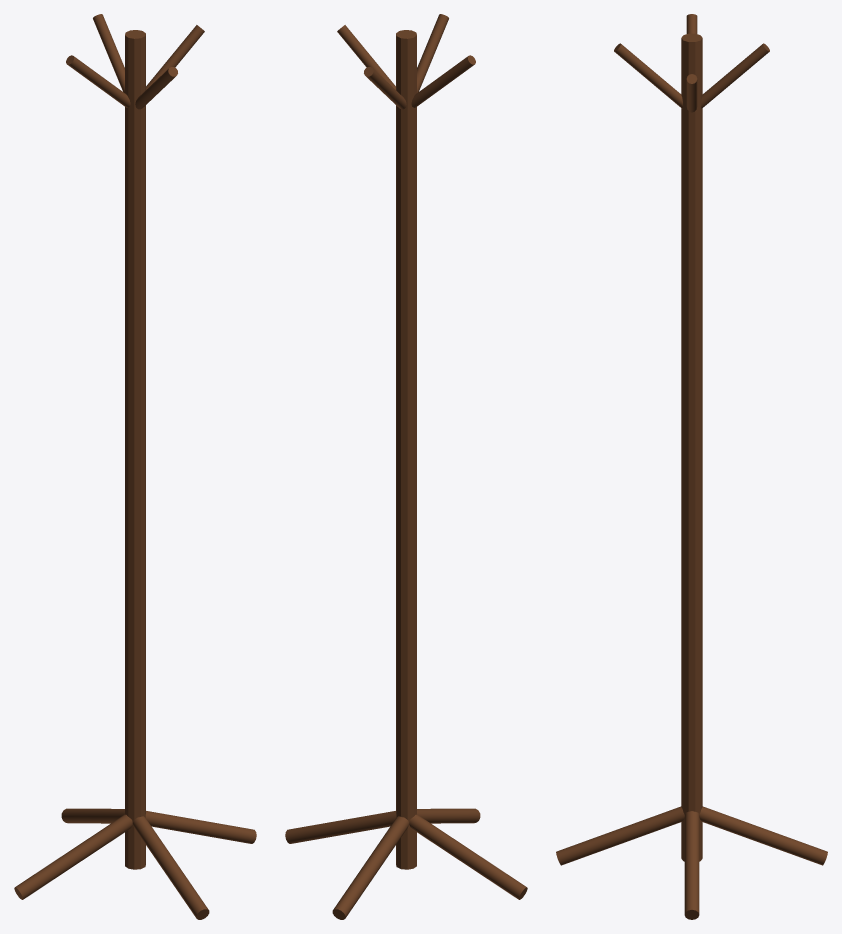
The model's file is furniture.home.coat_stand.glb.
3 renders of one model, left to right at view 1: azimuth 30°, elevation 25°; view 2: azimuth 150°, elevation 25°; view 3: azimuth 270°, elevation 25°, orthographic.
Visible parts, largest first — view 1: main__hardwood; view 2: main__hardwood; view 3: main__hardwood.
Part boxes in pixels (x1=…): main__hardwood: x1=14, y1=14, x2=256, y2=919; main__hardwood: x1=285, y1=14, x2=527, y2=919; main__hardwood: x1=556, y1=14, x2=827, y2=919.
Bounding box in the file's own units: 0.5104 × 1.71 × 0.5104.
